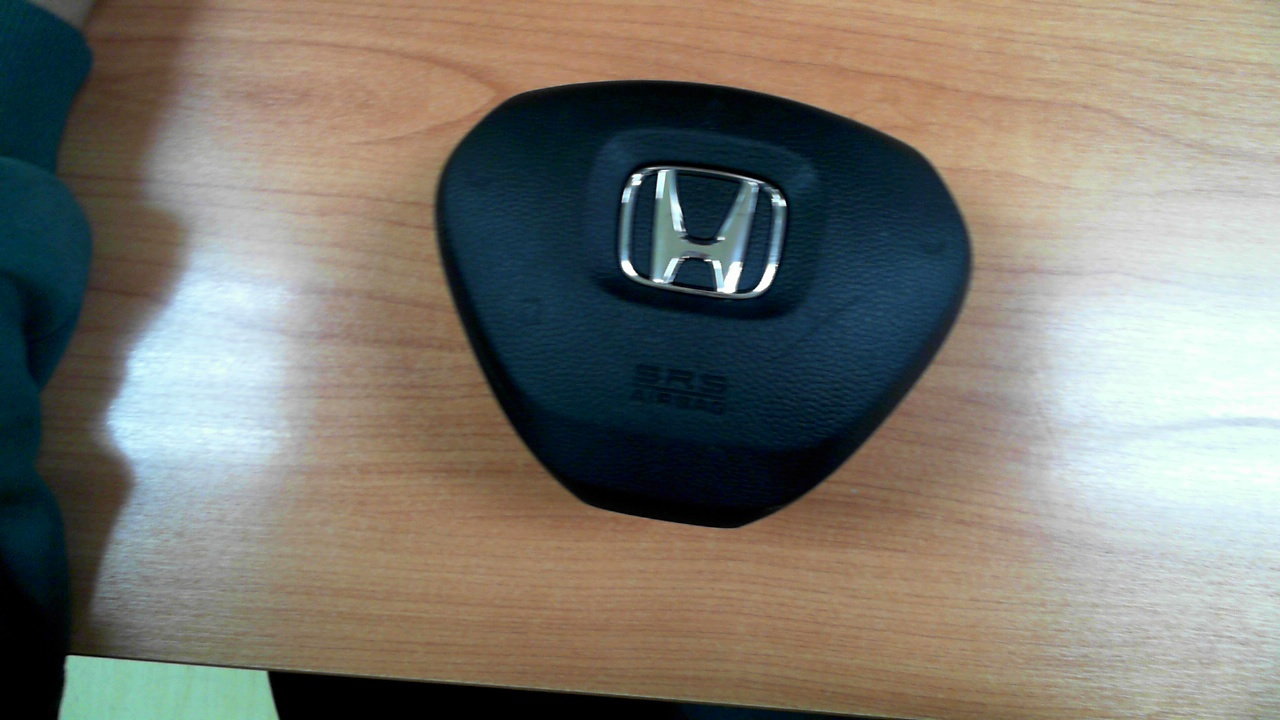Airbag: (433, 80, 973, 530)
Honda: (620, 166, 787, 299)
